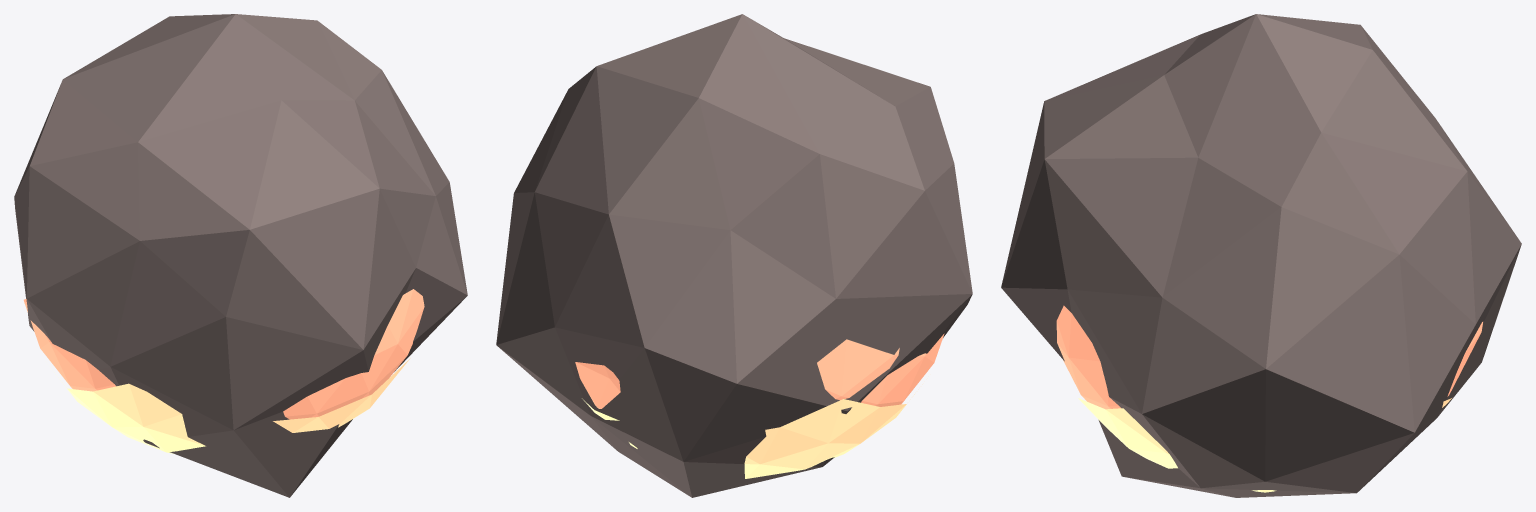
Rendered from smoke.glb.
The picture shows the model from 3 angles, left to right: view 1: azimuth 30°, elevation 25°; view 2: azimuth 150°, elevation 25°; view 3: azimuth 270°, elevation 25°; orthographic projection. The views are drawn at different scales.
Parts seen in each view (by area): view 1: Puff, Glow, Hot; view 2: Puff, Hot, Glow; view 3: Puff, Glow, Hot.
Part boxes in pixels (x1,y1,x2,y2): Puff: (14, 14, 467, 497); Glow: (23, 289, 424, 419); Hot: (54, 358, 410, 453); Puff: (496, 14, 972, 497); Hot: (582, 384, 922, 478); Glow: (575, 333, 944, 408); Puff: (1001, 14, 1521, 497); Glow: (1056, 305, 1482, 409); Hot: (1078, 398, 1451, 492).
Bounding box in the file's own units: 0.6956 × 0.6917 × 0.6724.
